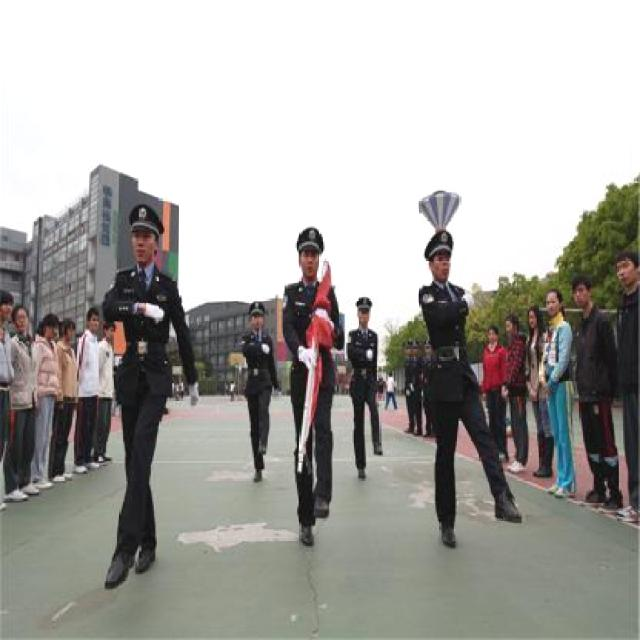face_nomask: (428, 255, 458, 283), (130, 232, 152, 268), (298, 242, 318, 280)
hand_glove: (295, 346, 317, 371), (142, 302, 166, 324), (191, 378, 203, 408), (461, 291, 477, 309), (364, 346, 374, 363), (262, 340, 270, 352)
hand_noglove: (502, 386, 509, 402), (530, 389, 538, 402), (55, 388, 63, 400), (543, 382, 552, 392), (35, 397, 40, 414), (74, 395, 78, 411), (59, 405, 64, 409)
person: (86, 199, 205, 603), (408, 229, 508, 546), (272, 224, 345, 542), (231, 295, 275, 488), (343, 296, 386, 476)
shoes: (486, 489, 531, 531), (101, 542, 139, 589), (430, 512, 467, 551), (295, 516, 322, 553), (312, 493, 334, 524), (353, 460, 372, 483), (370, 437, 387, 460)
